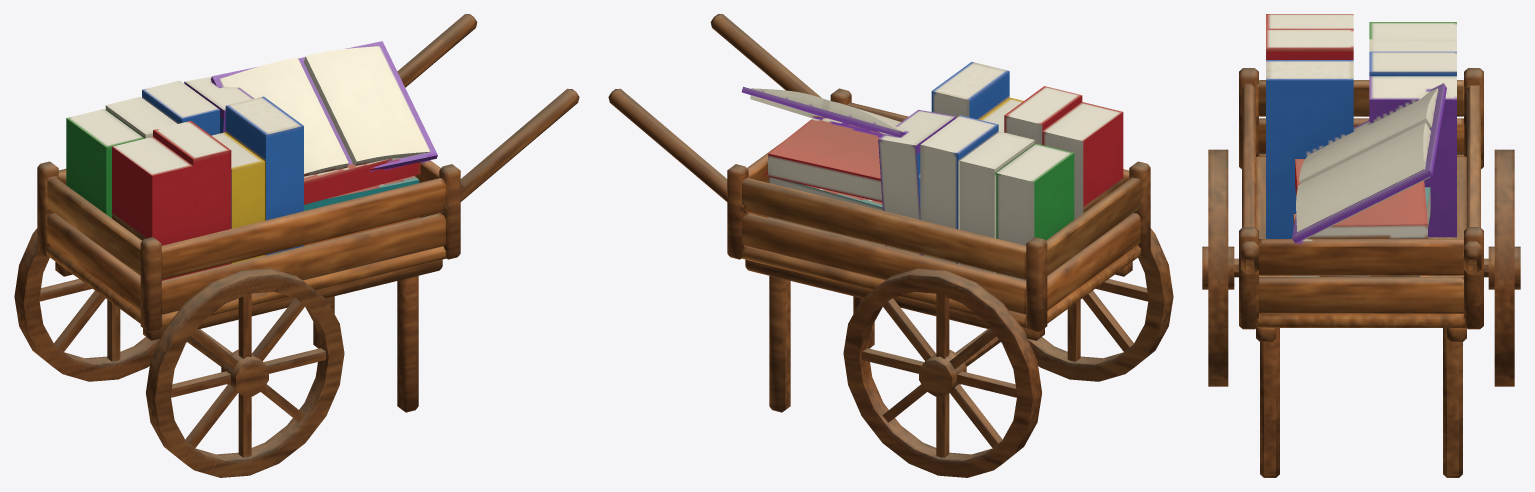
Rendered from book_cart.glb.
3 renders of one model, left to right at view 1: azimuth 30°, elevation 25°; view 2: azimuth 150°, elevation 25°; view 3: azimuth 270°, elevation 25°, orthographic. The views are drawn at different scales.
Parts seen in each view (by area): view 1: book_cart_game; view 2: book_cart_game; view 3: book_cart_game.
Boxes of the visible parts, x1=… form: book_cart_game: x1=14, y1=14, x2=579, y2=477; book_cart_game: x1=608, y1=14, x2=1173, y2=477; book_cart_game: x1=1202, y1=14, x2=1520, y2=477.
Size of the model in its own units: 1.4 by 0.94 by 0.8.
1 material, 1 textured.
